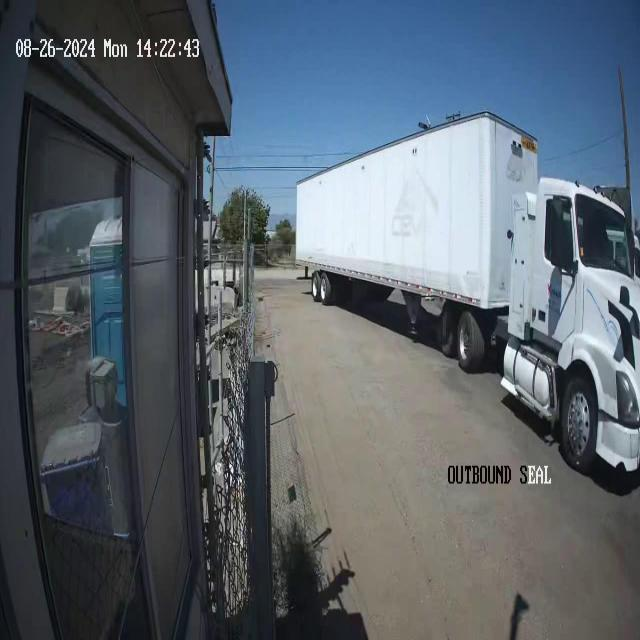TRUCK_IN: (294, 69, 640, 478)
